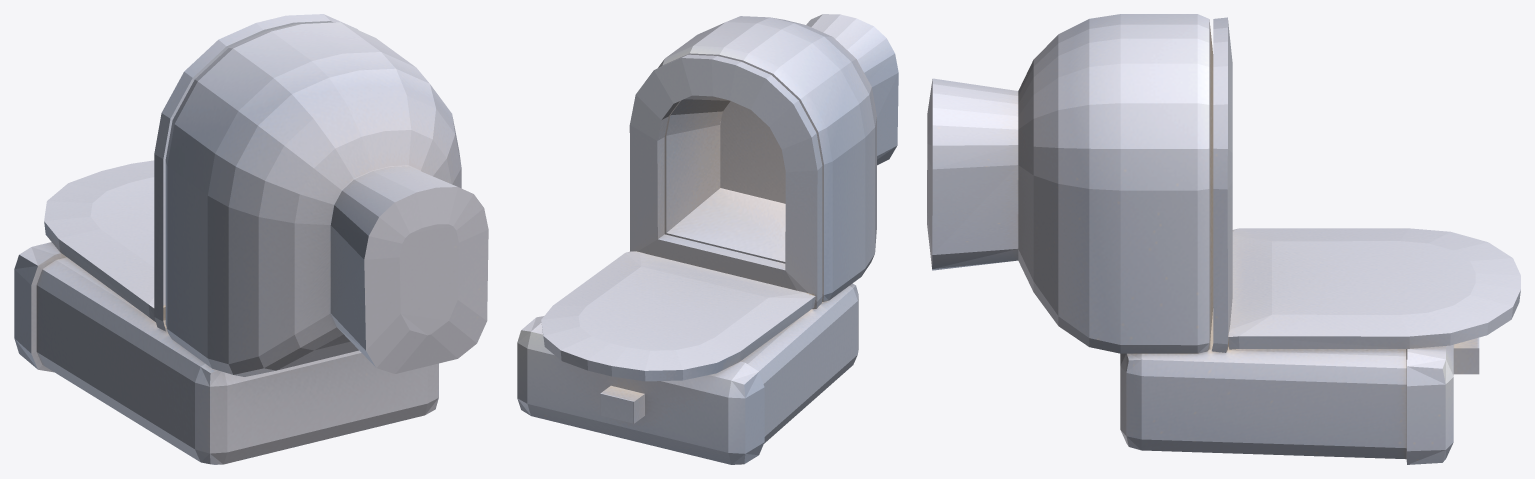
The model's file is toilet3.glb.
3 renders of one model, left to right at view 1: azimuth 30°, elevation 25°; view 2: azimuth 150°, elevation 25°; view 3: azimuth 270°, elevation 25°, orthographic. The views are drawn at different scales.
Parts seen in each view (by area): view 1: Toilet3; view 2: Toilet3; view 3: Toilet3.
Boxes of the visible parts, x1,y1,x2,y2 form: Toilet3: (14,14,488,464); Toilet3: (517,14,898,464); Toilet3: (927,14,1520,464).
Bounding box in the file's own units: 2.43 × 3.16 × 4.53.
Materials: 1 (1 with a texture image).
